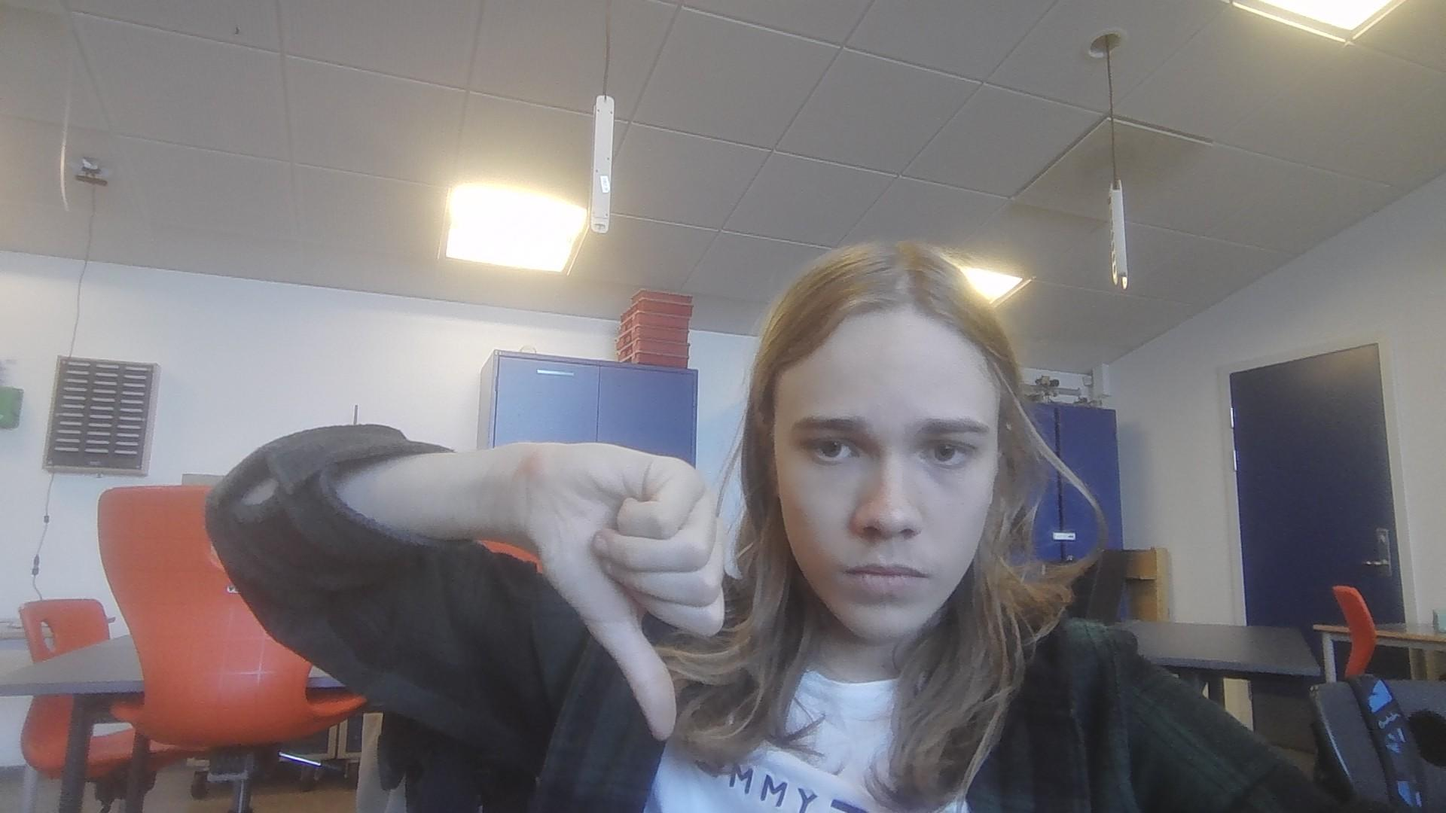thumbs down: (526, 433, 729, 741)
